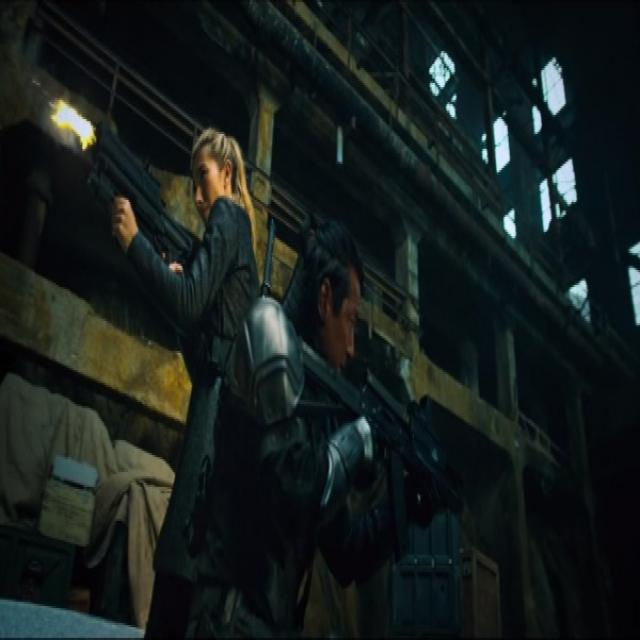rifle: (291, 327, 469, 551), (85, 116, 198, 279)
